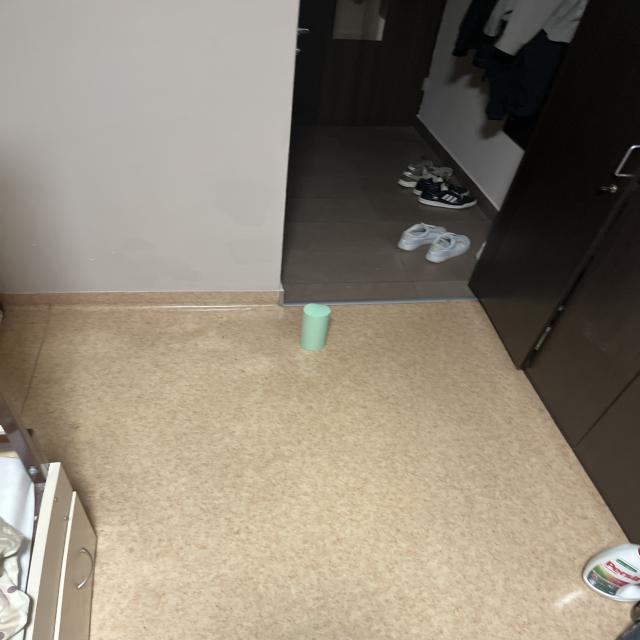meta: (300, 303, 331, 350)
